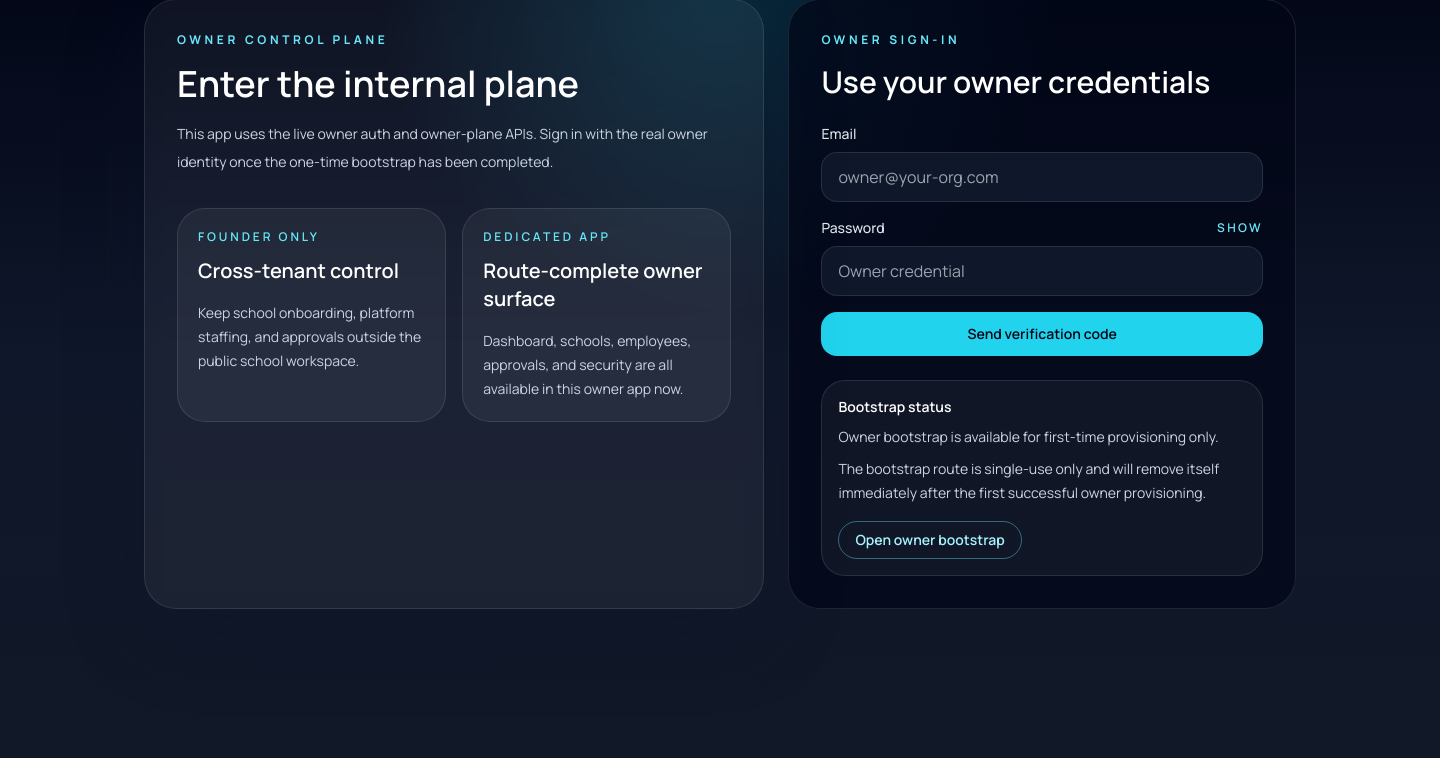
it: owner app › renders the dedicated finance dashboard for the owner app
The image size is (1440, 758).
Check: the heading "Use your owner credentials" is shown, box x1=821 y1=64 x2=1263 y2=100
Step 1. Type "owner.local@shardaos.internal" into the field labelled "Email" → {"x": 1042, "y": 177}, box x1=821 y1=152 x2=1263 y2=202
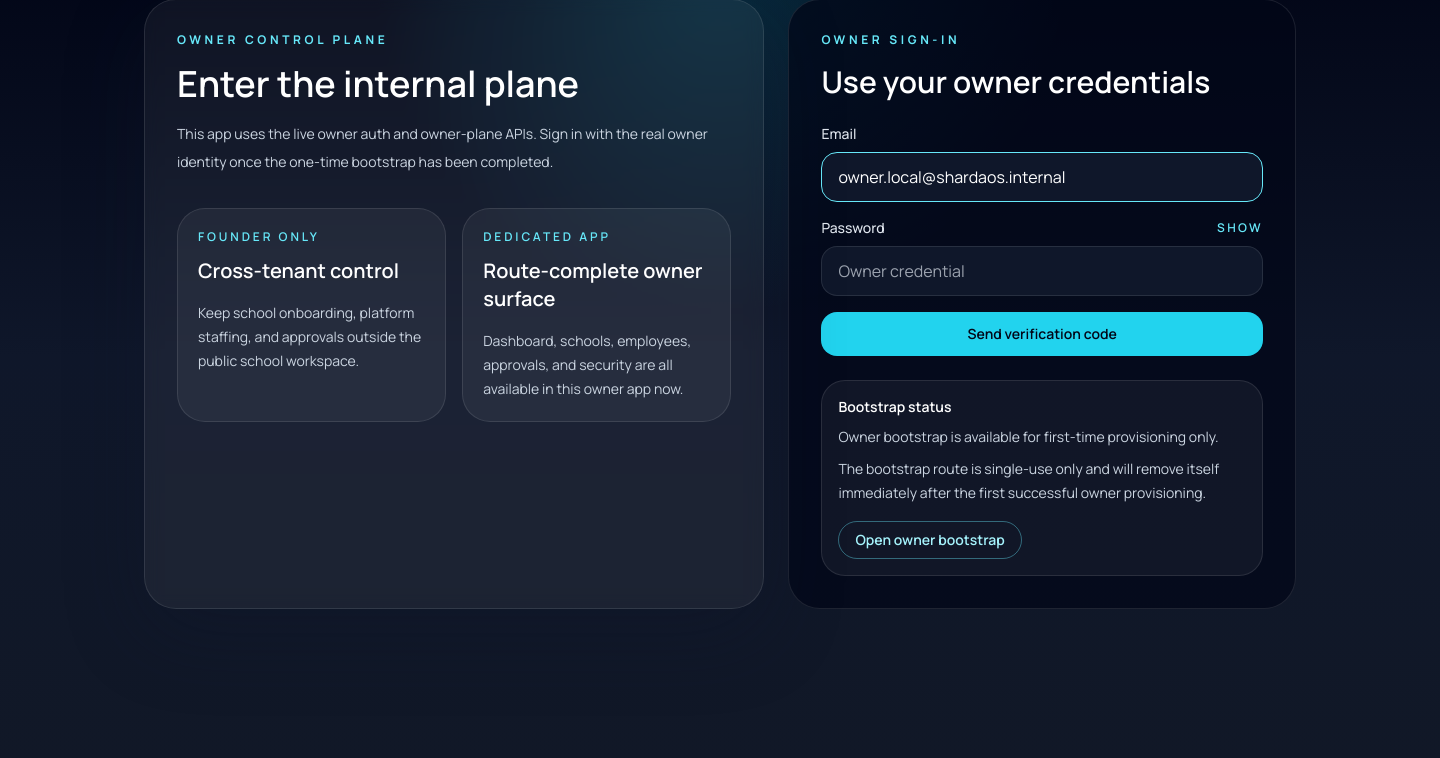
Step 2. Type "OwnerPassword@123" into the password field labelled "Password" → {"x": 1042, "y": 271}, box x1=821 y1=246 x2=1263 y2=296
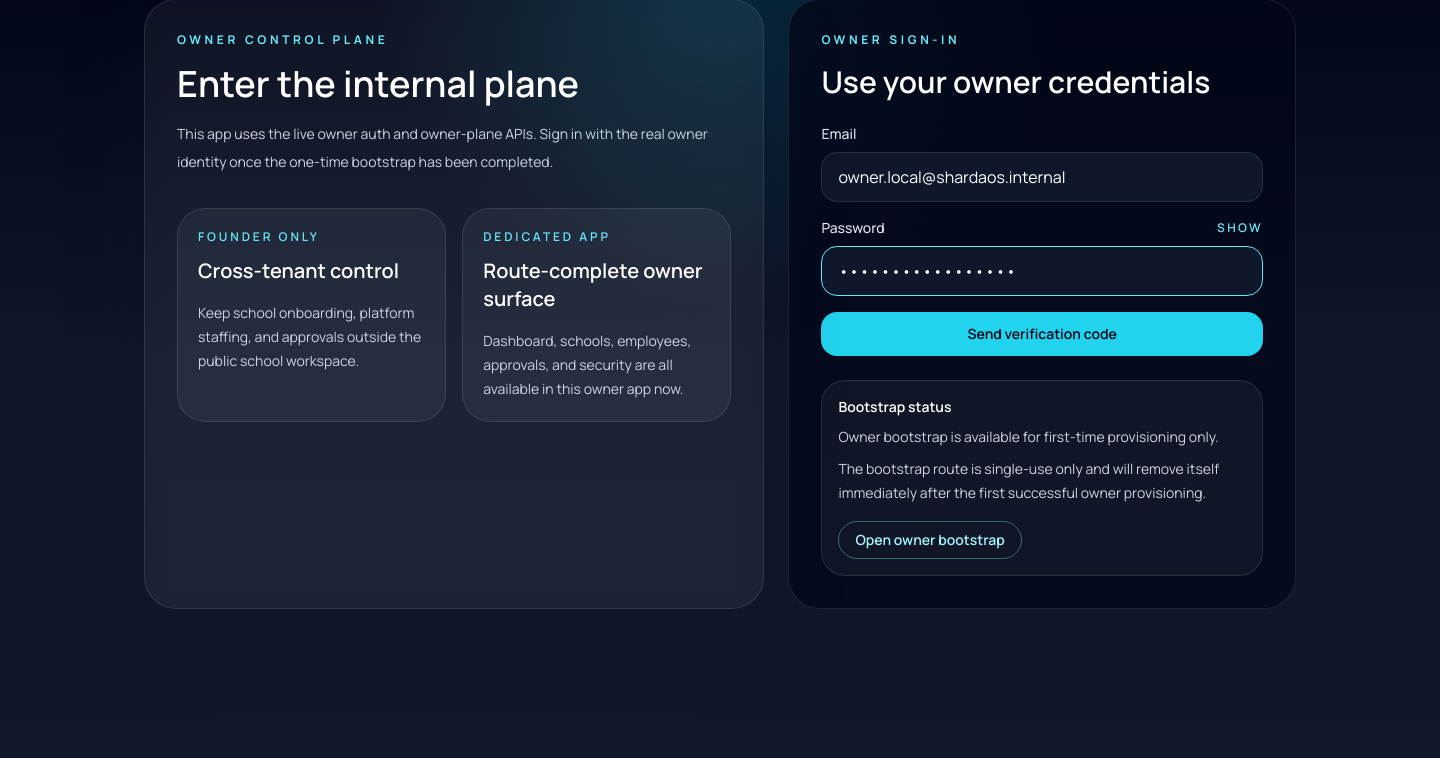
Step 3. Click the button "Send verification code" → {"x": 1042, "y": 334}, box x1=821 y1=312 x2=1263 y2=356
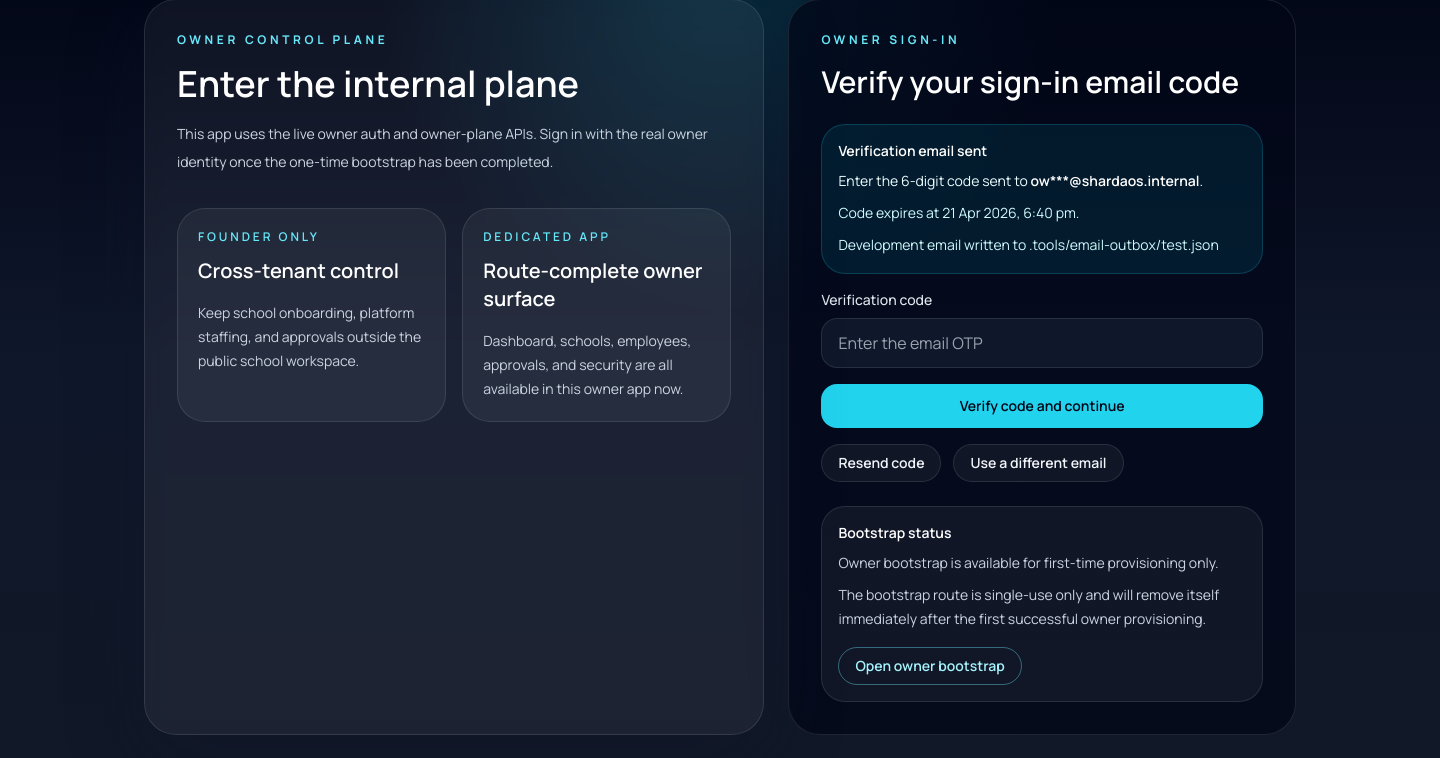
Check: the text "Verification email sent" is shown, box x1=838 y1=141 x2=987 y2=160
Step 4. Type "123456" into the field labelled "Verification code" → {"x": 1042, "y": 343}, box x1=821 y1=318 x2=1263 y2=368
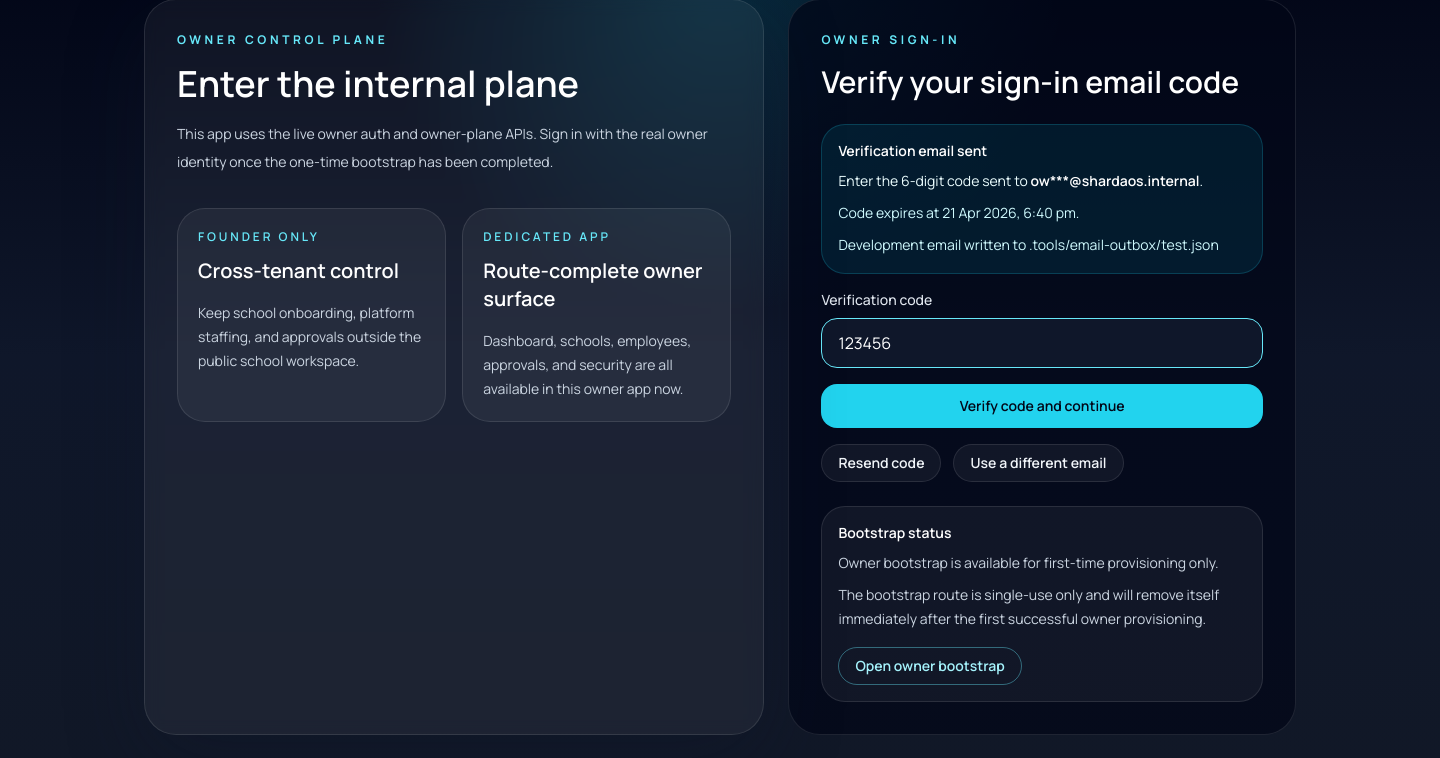
Step 5. Click the button "Verify code and continue" → {"x": 1042, "y": 406}, box x1=821 y1=384 x2=1263 y2=428
(page scrolled)
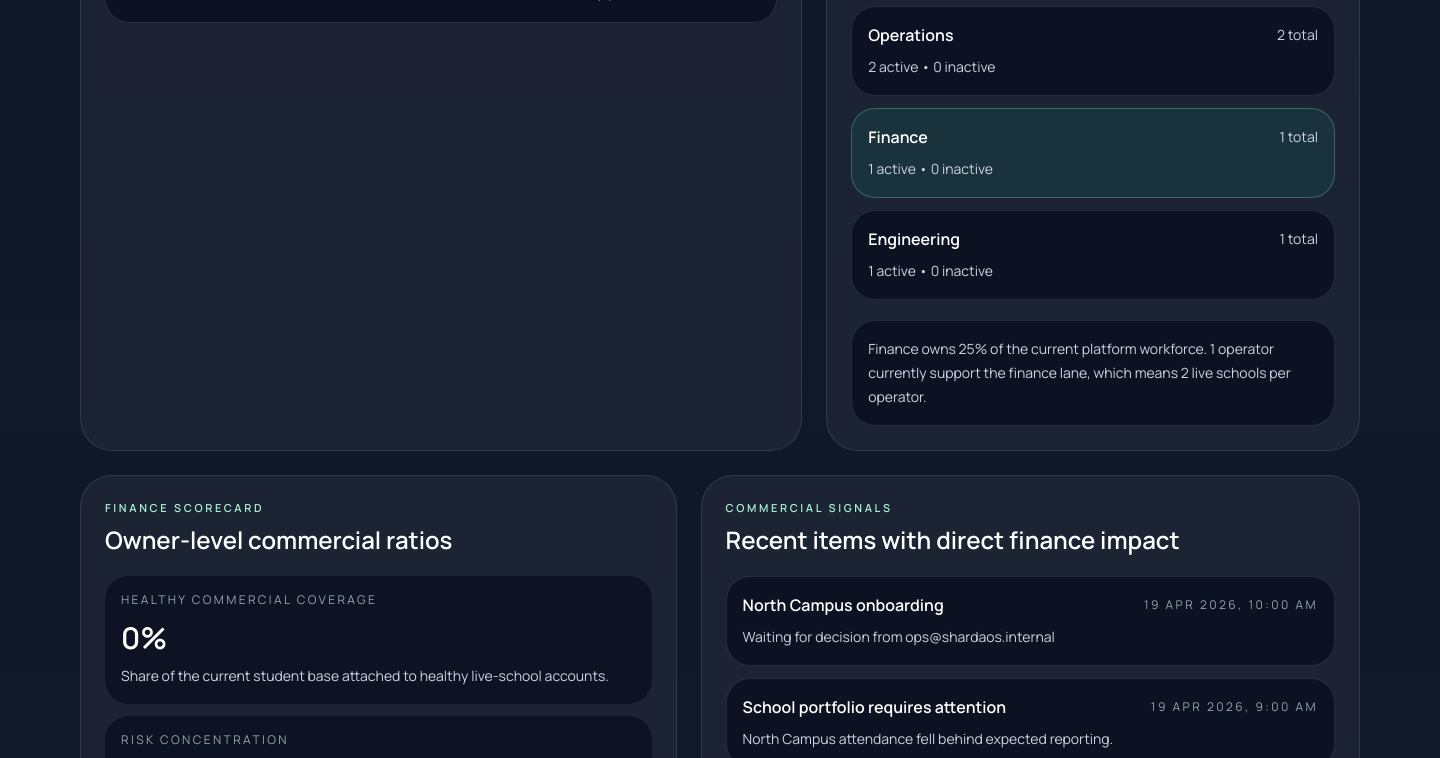
Check: the text "Healthy commercial coverage" is shown, box x1=121 y1=591 x2=377 y2=608
Check: the text "Finance owns 25% of the current platform workforce" is shown, box x1=851 y1=320 x2=1335 y2=426
